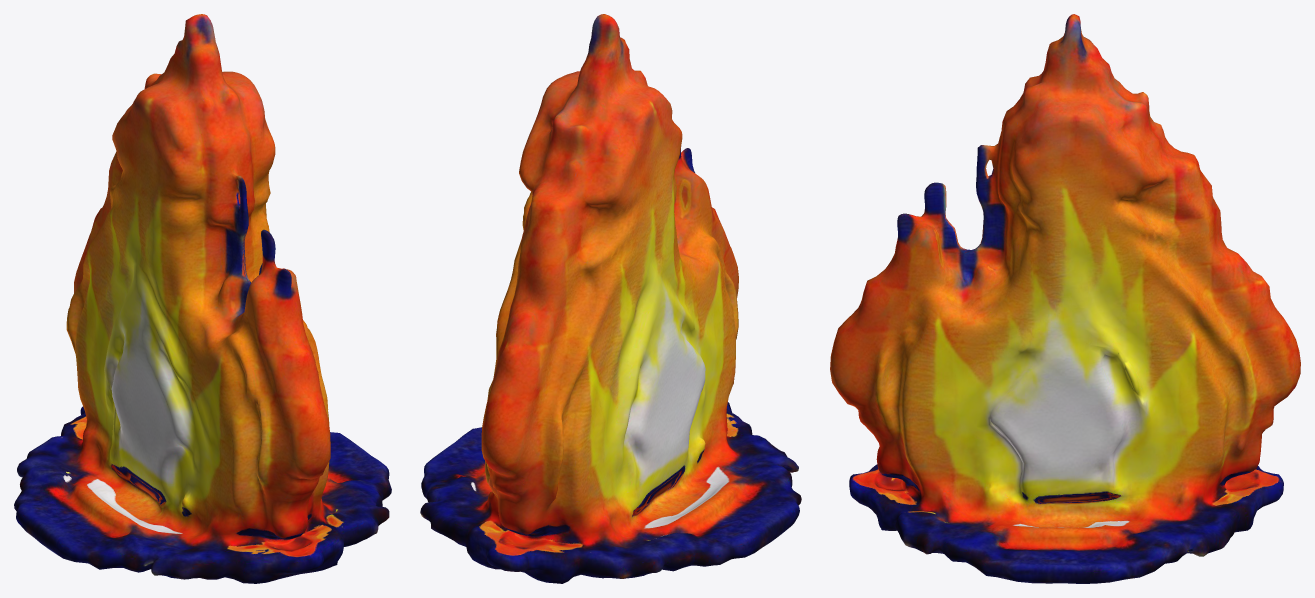
Rendered from lowPolyFlame.glb.
3 renders of one model, left to right at view 1: azimuth 30°, elevation 25°; view 2: azimuth 150°, elevation 25°; view 3: azimuth 270°, elevation 25°, orthographic.
Visible parts, largest first — view 1: mesh; view 2: mesh; view 3: mesh.
Part boxes in pixels (x1,y1,x2,y2): mesh: (14,14,391,583); mesh: (420,14,801,583); mesh: (830,14,1300,583).
Bounding box in the file's own units: 0.6535 × 0.9957 × 0.8119.
Materials: 1 (1 with a texture image).
